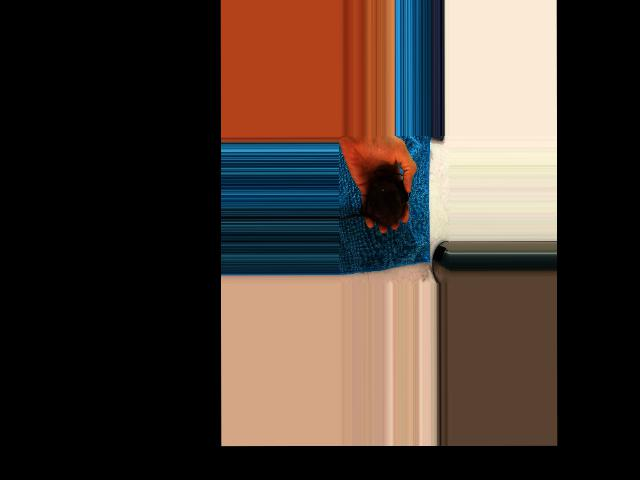beet: (338, 170, 410, 226)
